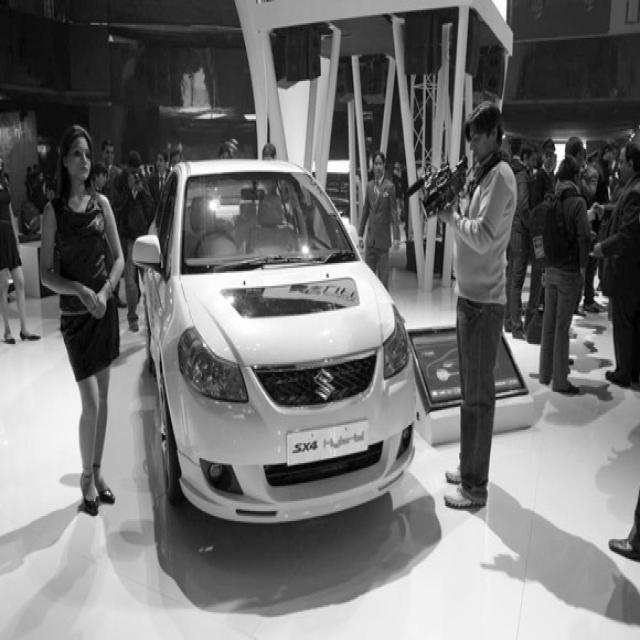car: (131, 155, 416, 526)
